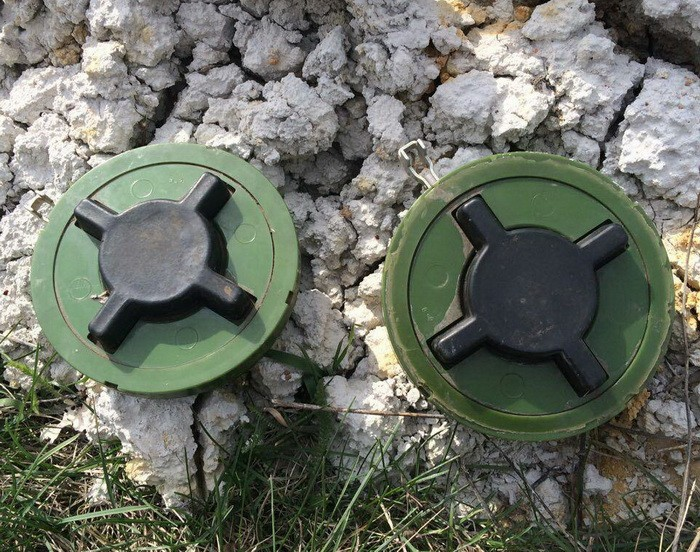PMN 2: (383, 149, 675, 439), (29, 141, 300, 403)
